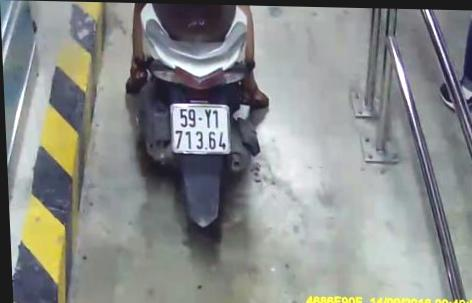License_Plate: (166, 100, 237, 162)
